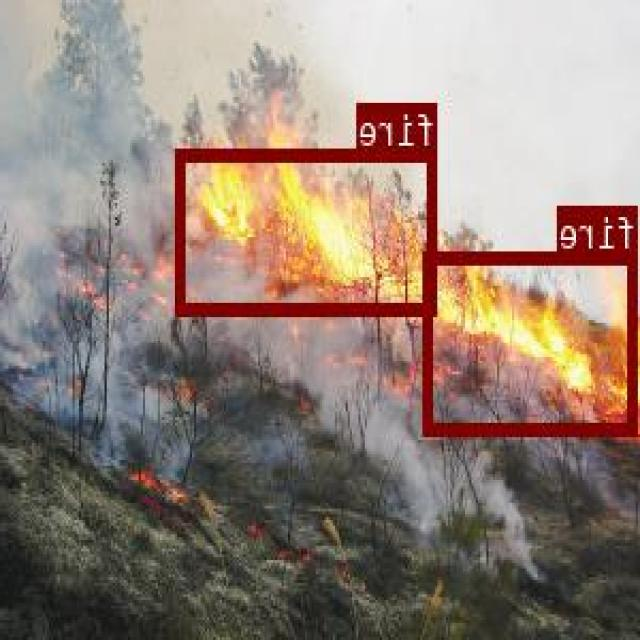fire: (179, 146, 438, 313), (425, 249, 638, 433)
